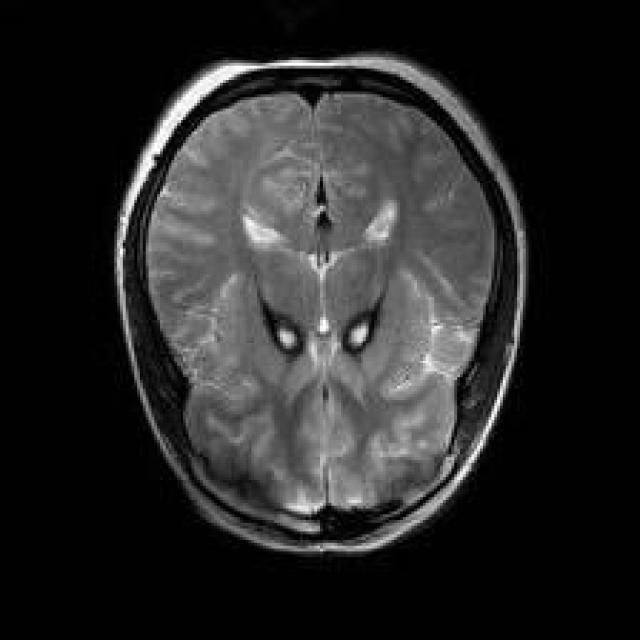no_tumor: (110, 37, 533, 562)
